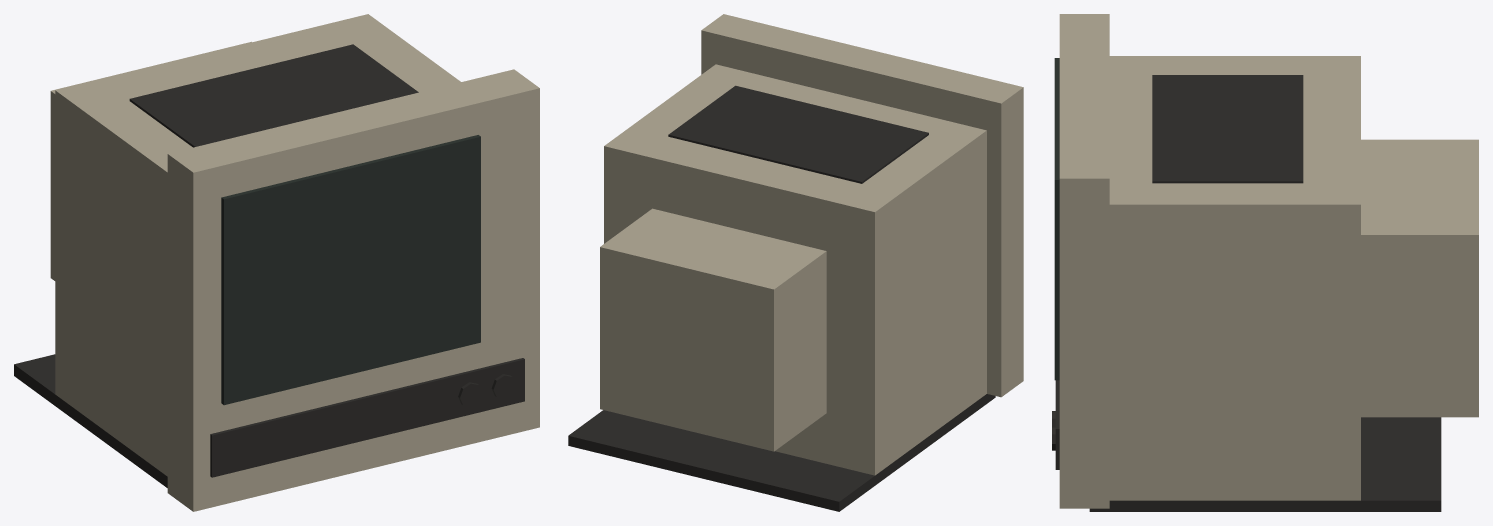
The model's file is crt-monitor-mono.glb.
3 renders of one model, left to right at view 1: azimuth 30°, elevation 25°; view 2: azimuth 150°, elevation 25°; view 3: azimuth 270°, elevation 25°, orthographic. The views are drawn at different scales.
Visible parts, largest first — view 1: plastic-light, screen, plastic-dark; view 2: plastic-light, plastic-dark; view 3: plastic-light, plastic-dark, screen.
Boxes of the visible parts, <box> form: plastic-light: <box>50,14,539,511</box>; screen: <box>221,135,480,405</box>; plastic-dark: <box>14,44,524,487</box>; plastic-light: <box>600,14,1023,475</box>; plastic-dark: <box>568,85,995,511</box>; plastic-light: <box>1059,14,1478,508</box>; plastic-dark: <box>1052,75,1441,511</box>; screen: <box>1054,58,1059,380</box>.
Bounding box in the file's own units: 0.31 × 0.3 × 0.34.
